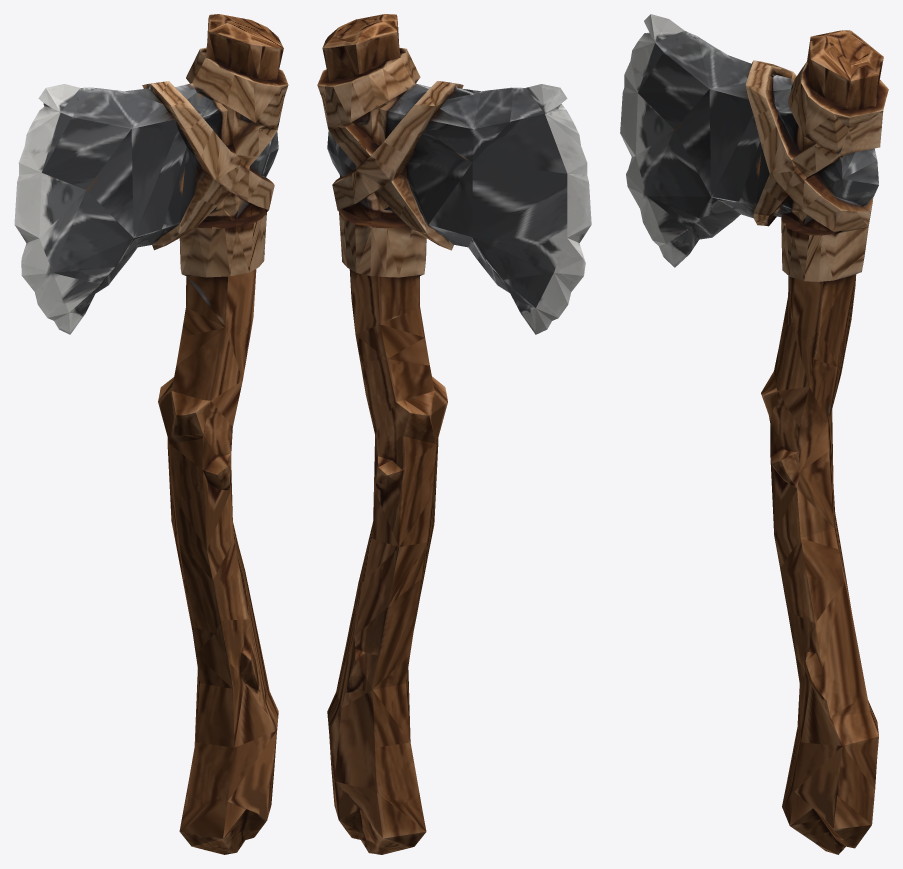
The model's file is approved-runtime.glb.
The picture shows the model from 3 angles, left to right: view 1: azimuth 30°, elevation 25°; view 2: azimuth 150°, elevation 25°; view 3: azimuth 330°, elevation 25°; orthographic projection. The views are drawn at different scales.
Visible parts, largest first — view 1: stone_axe.003; view 2: stone_axe.003; view 3: stone_axe.003.
Boxes of the visible parts, x1,y1,x2,y2 form: stone_axe.003: [14, 14, 288, 854]; stone_axe.003: [317, 14, 591, 854]; stone_axe.003: [620, 14, 888, 854].
Bounding box in the file's own units: 0.2223 × 0.6599 × 0.076.
1 material, 1 textured.
